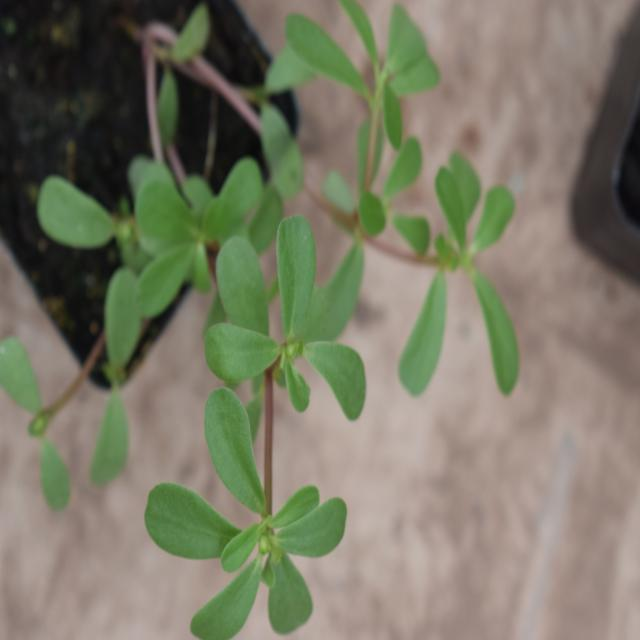purslane: (62, 39, 513, 617)
